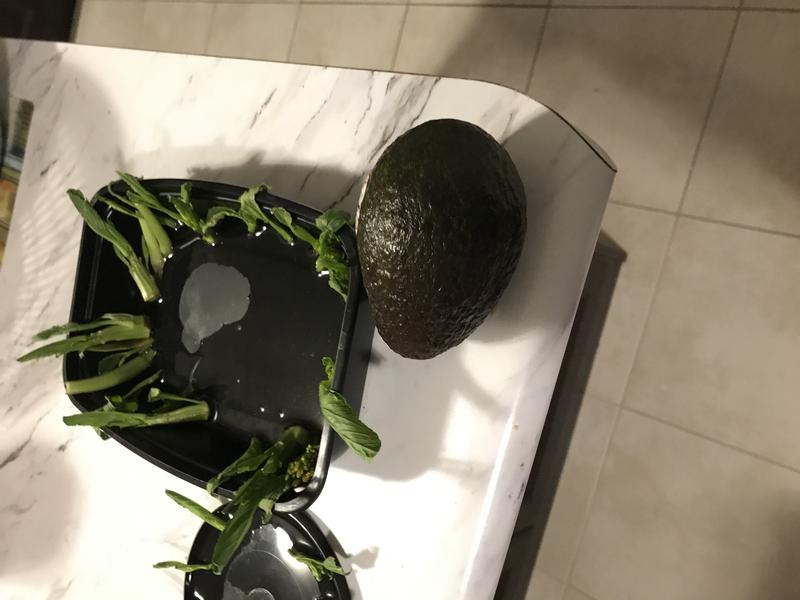avacado: (349, 108, 530, 370)
